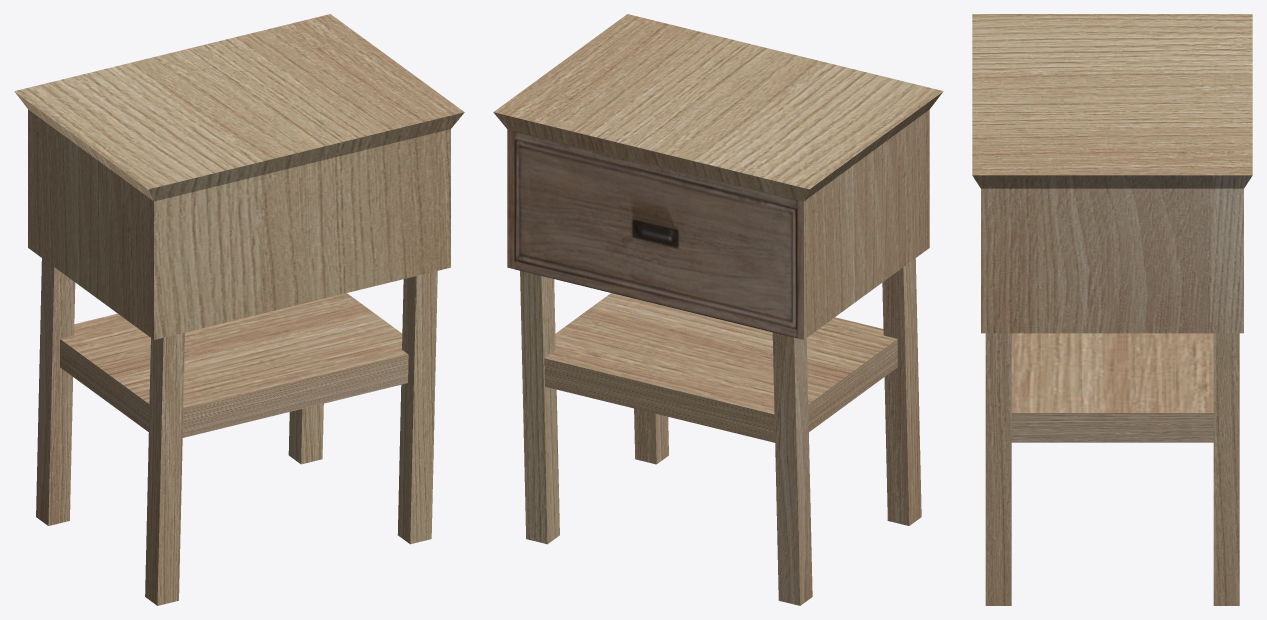
Rendered from end table 1.fbx.
3 views of the same model, side by side, from view 1: azimuth 30°, elevation 25°; view 2: azimuth 150°, elevation 25°; view 3: azimuth 270°, elevation 25° (orthographic). The views are drawn at different scales.
Visible parts, largest first — view 1: pCube2, pCube4, group12_pasted__pCube3; view 2: pCube2, pCube4, group12_pasted__pCube3; view 3: pCube2, pCube4, group12_pasted__pCube3.
Boxes of the visible parts, x1,y1,x2,y2 form: pCube2: (14, 14, 464, 339); pCube4: (60, 293, 408, 437); group12_pasted__pCube3: (36, 258, 437, 605); pCube2: (493, 14, 943, 339); pCube4: (544, 293, 897, 442); group12_pasted__pCube3: (520, 258, 921, 605); pCube2: (972, 14, 1252, 333); pCube4: (1011, 333, 1213, 442); group12_pasted__pCube3: (985, 333, 1239, 605).
Bounding box in the file's own units: 3.19 × 4.1 × 2.35.
Materials: 1 (1 with a texture image).
